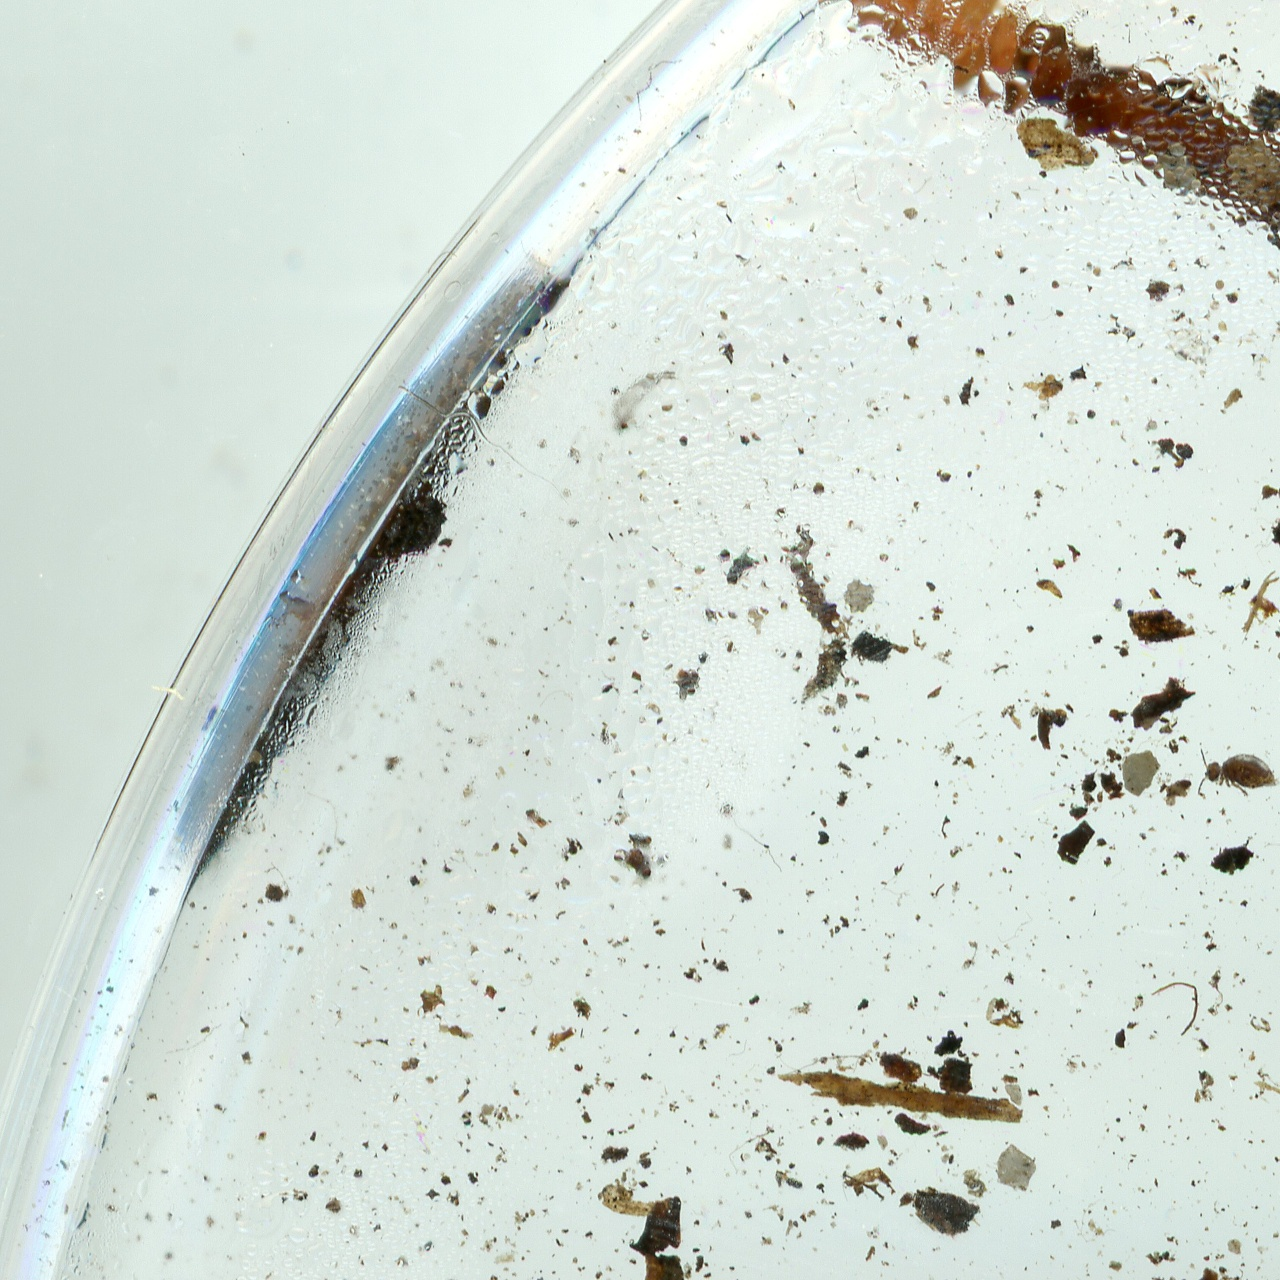arthropod: (1196, 745, 1278, 802)
